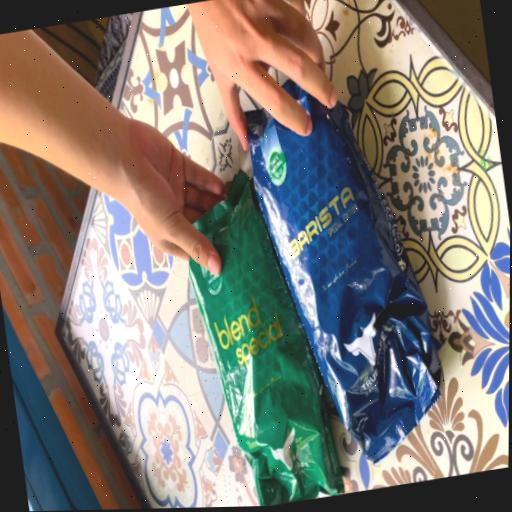cafe_hat: (247, 79, 441, 461), (189, 170, 344, 506)
cafe_xay: (189, 170, 344, 506)
